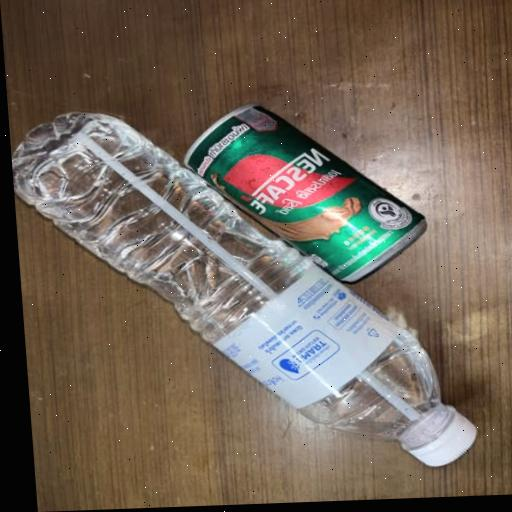bottle: (11, 92, 512, 498)
canned: (174, 82, 461, 304)
